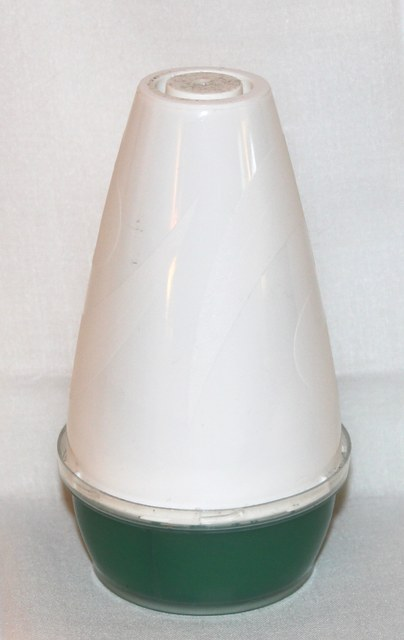Odonil Bathroom Block: (20, 32, 384, 608)
